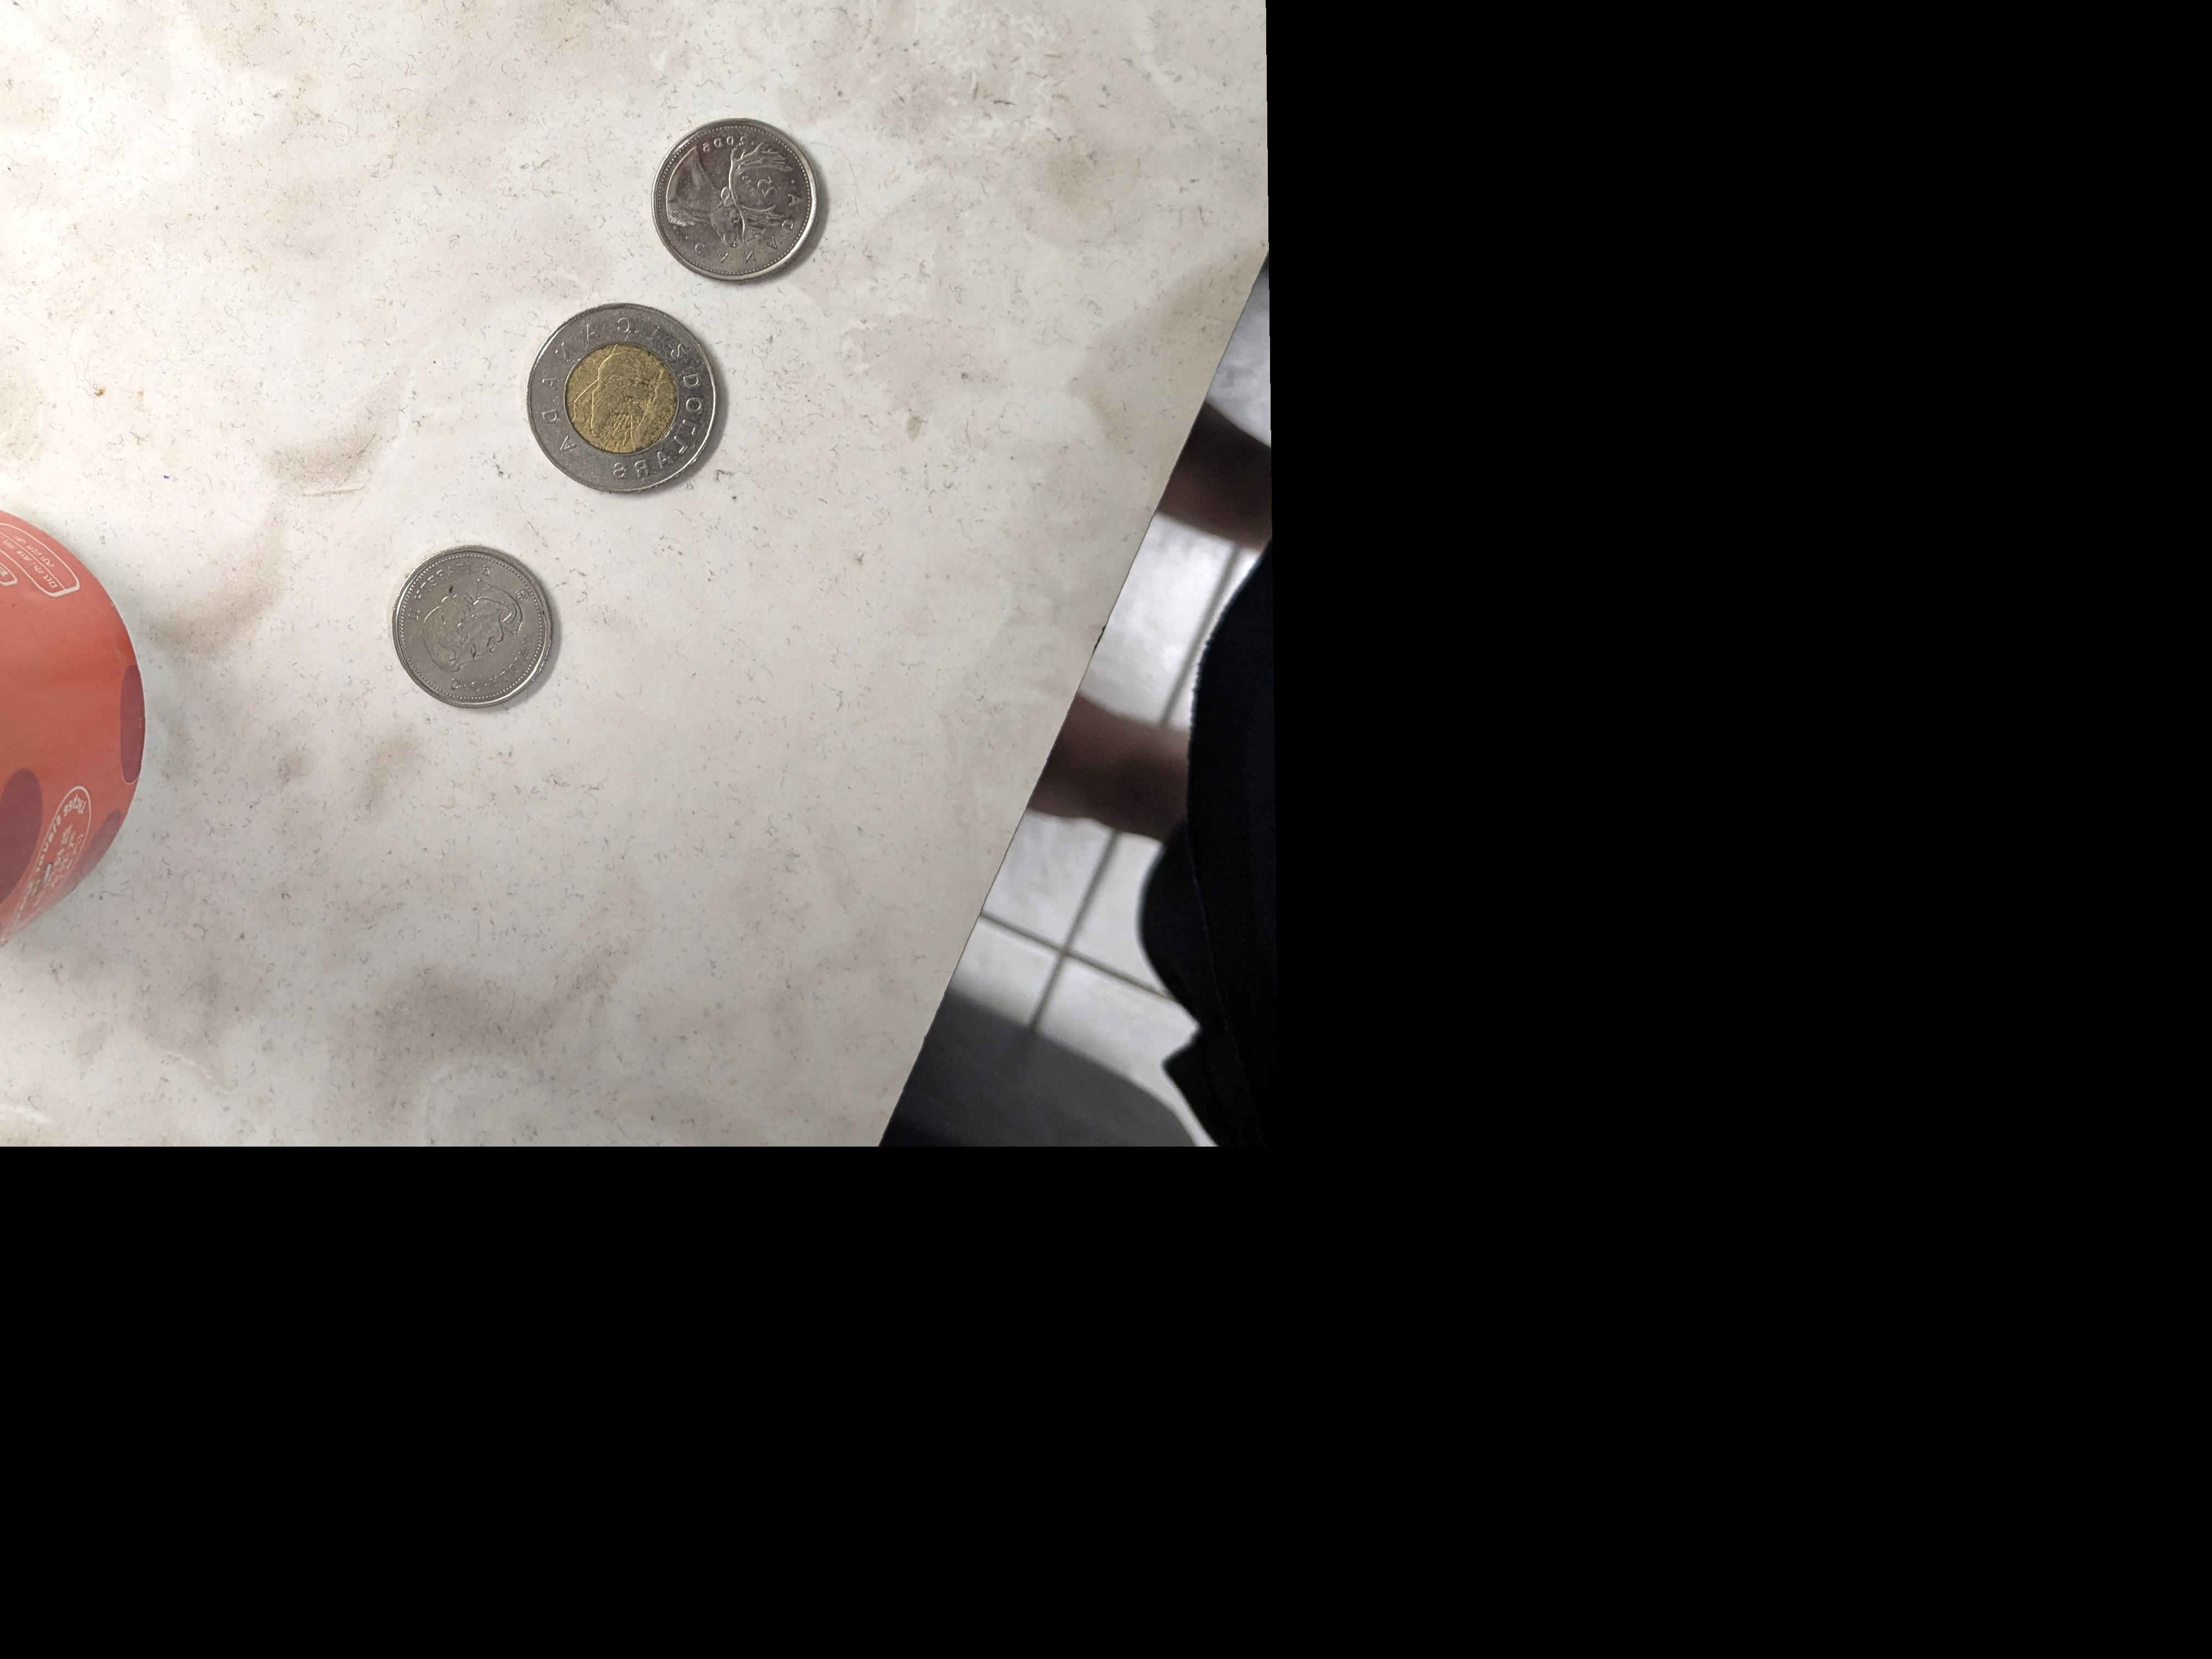quarter: (653, 117, 827, 289), (395, 540, 557, 718)
toonie: (531, 303, 725, 491)
